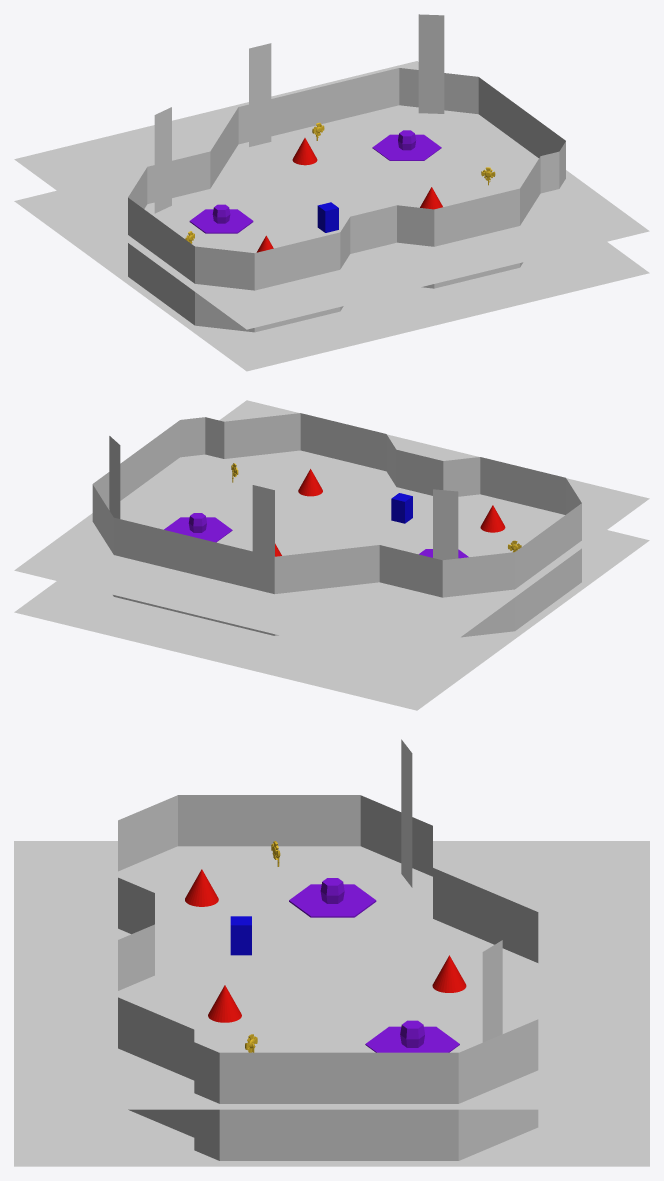
Rendered from N1-Pantano.fbx.
3 views of the same model, one above another, from view 1: azimuth 30°, elevation 25°; view 2: azimuth 150°, elevation 25°; view 3: azimuth 270°, elevation 25° (orthographic). The views are drawn at different scales.
Parts seen in each view (by area): view 1: Base, Limite 1-1, Arbol, Arbol.006, Arbol.009, Barril en Barro.001, Barril en Barro, Jugador.002; view 2: Base, Limite 1-1, Arbol.009, Arbol.006, Barril en Barro.001, Arbol, Jugador.002; view 3: Base, Limite 1-1, Barril en Barro, Barril en Barro.001, Arbol, Arbol.009, Jugador.002, Spawn.002, Spawn, Spawn.001.
Part boxes in pixels (box(x1,y1,x2,y2)): Base: box(14, 61, 649, 371); Limite 1-1: box(128, 68, 565, 290); Arbol: box(418, 14, 444, 113); Arbol.006: box(249, 43, 271, 146); Arbol.009: box(154, 107, 171, 213); Barril en Barro.001: box(372, 130, 441, 160); Barril en Barro: box(189, 204, 253, 233); Jugador.002: box(317, 202, 338, 232); Base: box(14, 400, 649, 710); Limite 1-1: box(92, 413, 581, 597); Arbol.009: box(433, 489, 458, 560); Arbol.006: box(252, 485, 274, 556); Barril en Barro.001: box(164, 513, 232, 542); Arbol: box(109, 436, 120, 518); Jugador.002: box(391, 493, 412, 523); Base: box(14, 841, 649, 1166); Limite 1-1: box(118, 795, 538, 1103); Barril en Barro: box(289, 878, 376, 917); Barril en Barro.001: box(365, 1020, 459, 1052); Arbol: box(482, 940, 502, 1042); Arbol.009: box(401, 739, 412, 887); Jugador.002: box(230, 916, 251, 955); Spawn.002: box(208, 985, 241, 1022); Spawn: box(432, 955, 466, 992); Spawn.001: box(185, 869, 218, 906).
Size of the model in its own units: 2018 by 672 by 2018.
